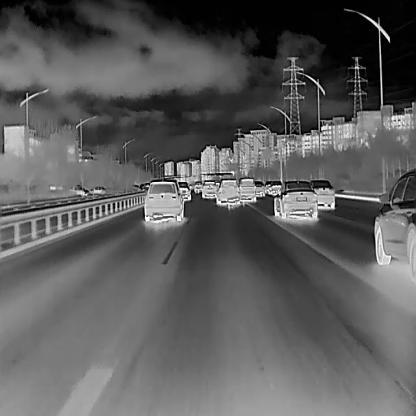car: (372, 168, 415, 280), (142, 179, 183, 222), (273, 179, 317, 219), (308, 177, 334, 211), (216, 178, 239, 206), (237, 176, 256, 202), (175, 179, 190, 200), (201, 179, 217, 198), (68, 183, 89, 196), (268, 179, 283, 196), (253, 180, 264, 197), (89, 185, 107, 195), (192, 180, 203, 192), (142, 181, 150, 193)
